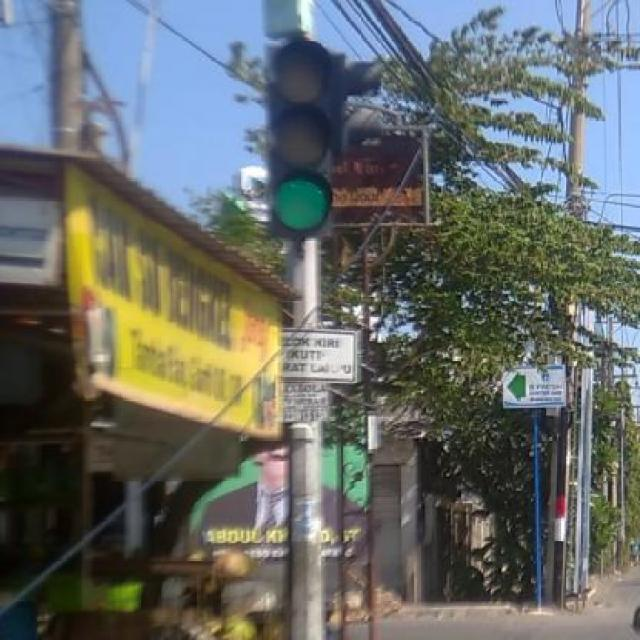traffic light: (268, 37, 345, 238)
